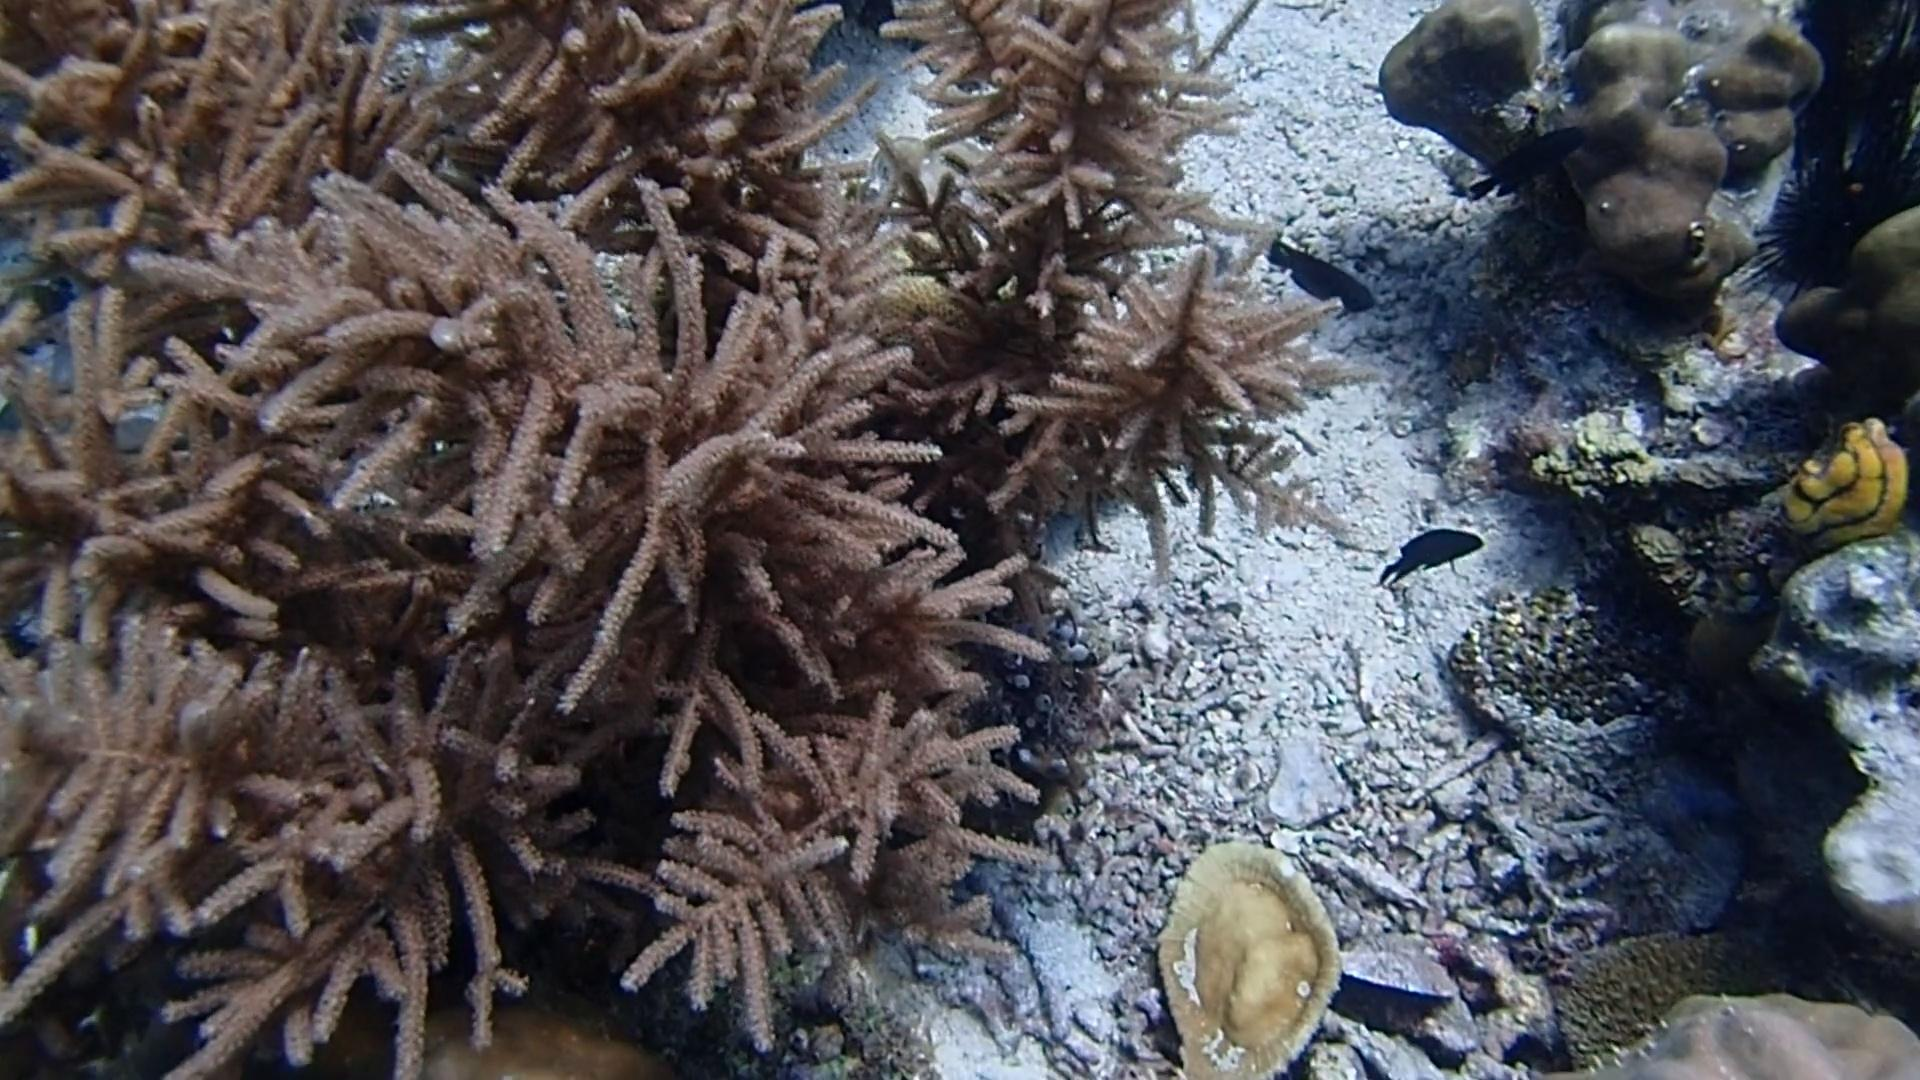Dark Fish: (1458, 117, 1594, 222), (1258, 222, 1382, 319), (1370, 524, 1493, 592)
